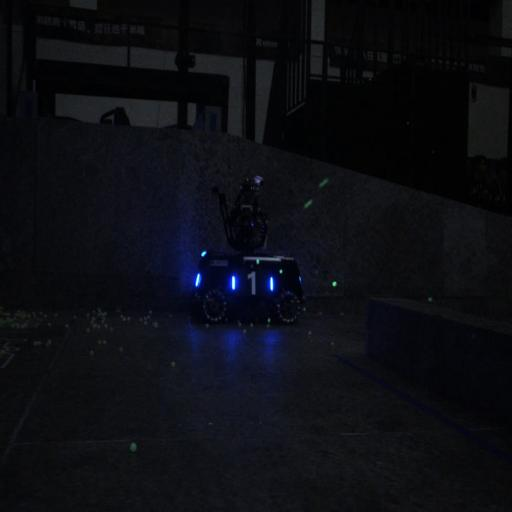target: (231, 262, 275, 305)
